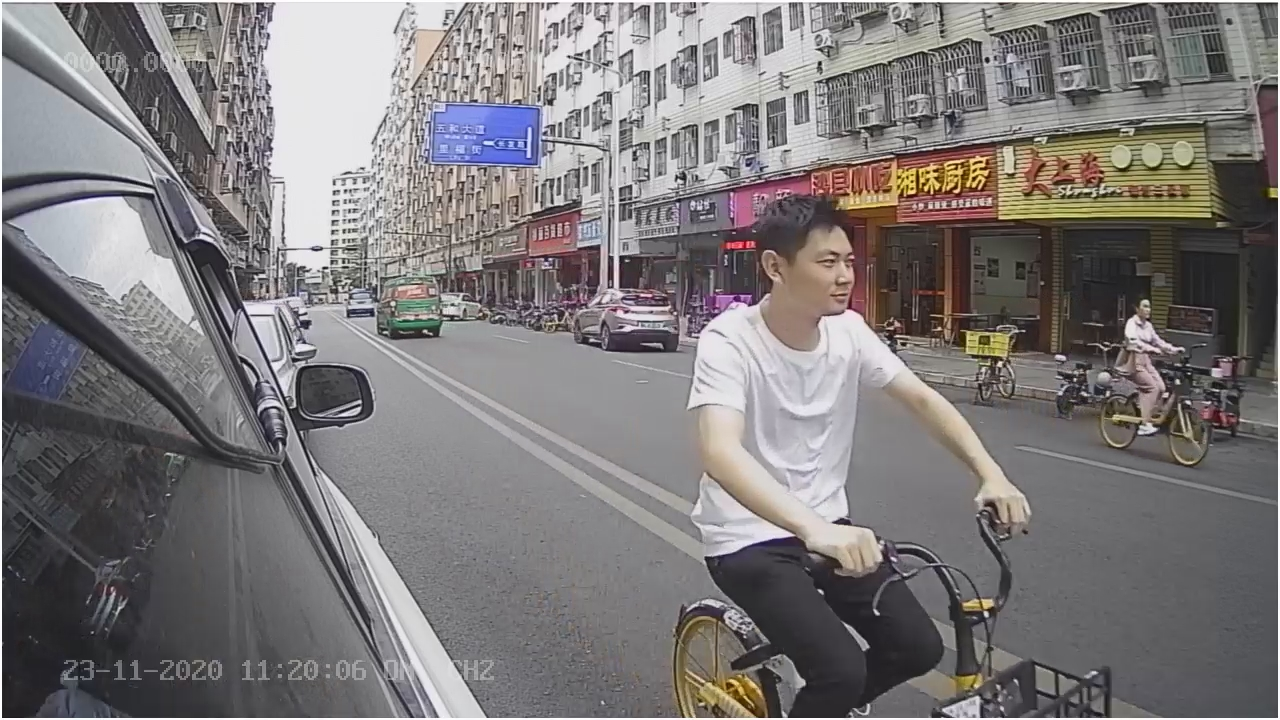person: (660, 194, 1042, 549)
